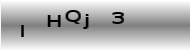3: (111, 11, 124, 25)
H: (45, 14, 61, 29)
Q: (64, 9, 82, 25)
j: (81, 13, 90, 30)
l: (19, 24, 25, 38)
